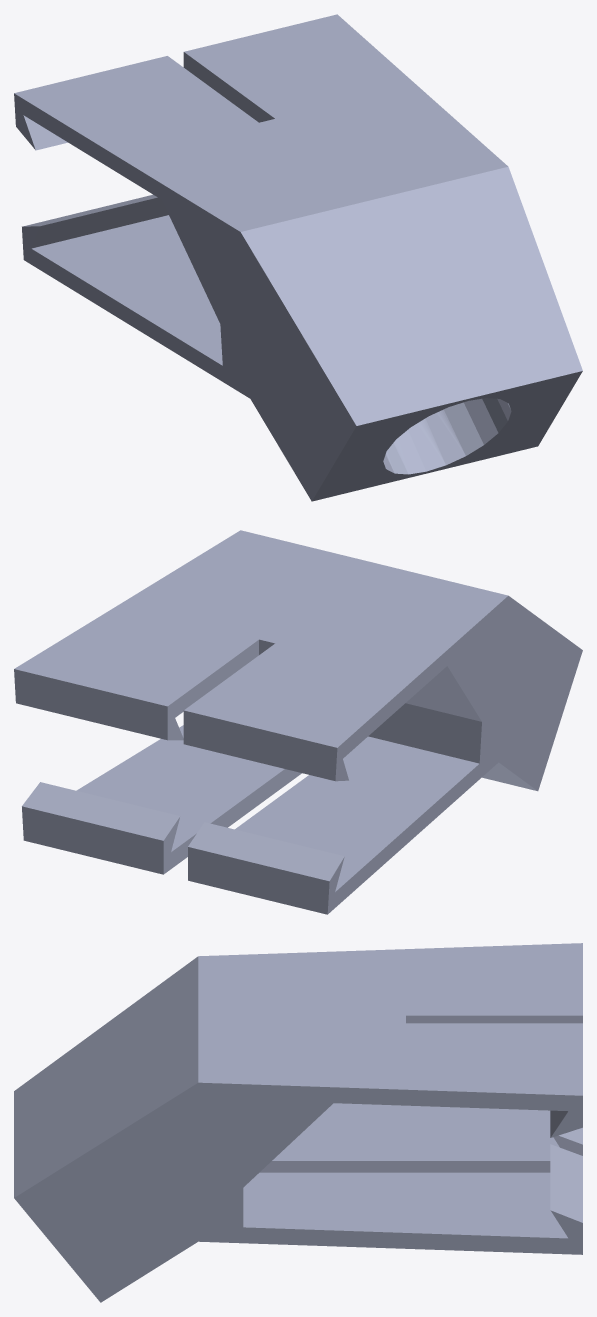
The model's file is Front Camera Mount Website.glb.
3 renders of one model, top to bottom at view 1: azimuth 30°, elevation 25°; view 2: azimuth 150°, elevation 25°; view 3: azimuth 270°, elevation 25°, orthographic. The views are drawn at different scales.
Visible parts, largest first — view 1: 3MFMeshParent_0; view 2: 3MFMeshParent_0; view 3: 3MFMeshParent_0.
Boxes of the visible parts, x1,y1,x2,y2 form: 3MFMeshParent_0: (14, 14, 582, 501); 3MFMeshParent_0: (14, 530, 582, 914); 3MFMeshParent_0: (14, 943, 582, 1302).
Size of the model in its own units: 50.8 by 35.69 by 80.01.
